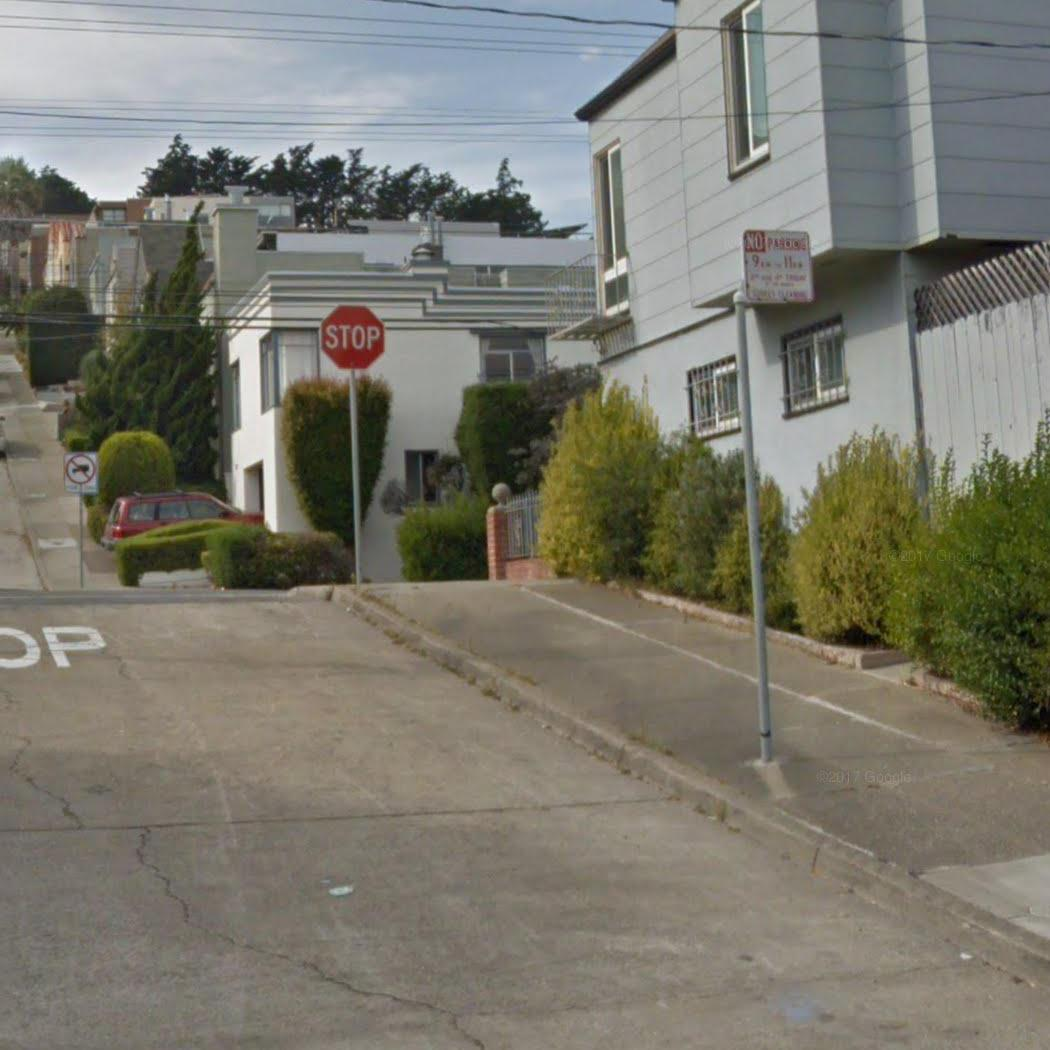No Parking: (731, 224, 824, 312)
